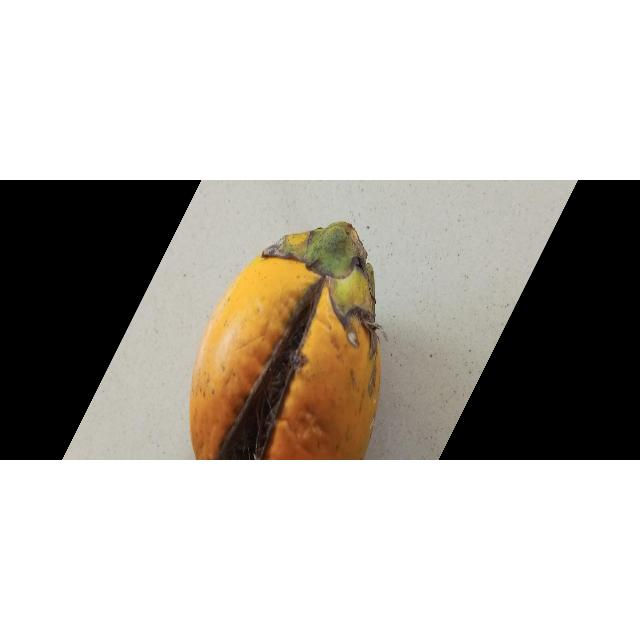damaged: (188, 222, 381, 461)
